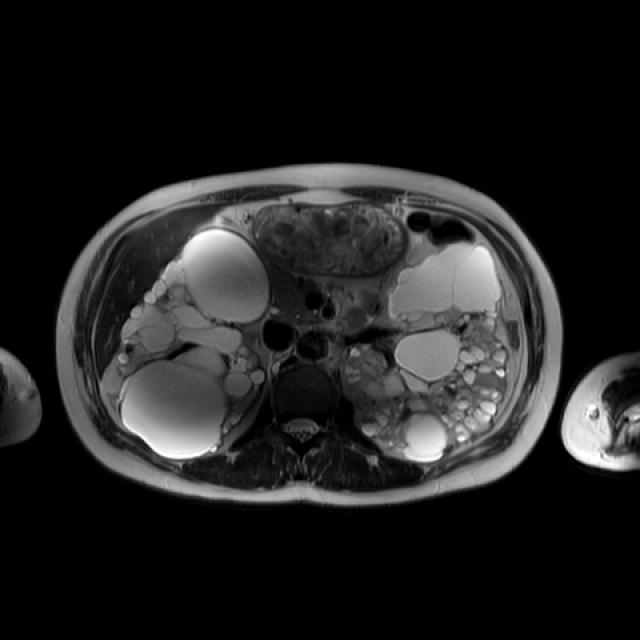sag: (103, 230, 271, 458)
sol: (348, 244, 510, 460)
